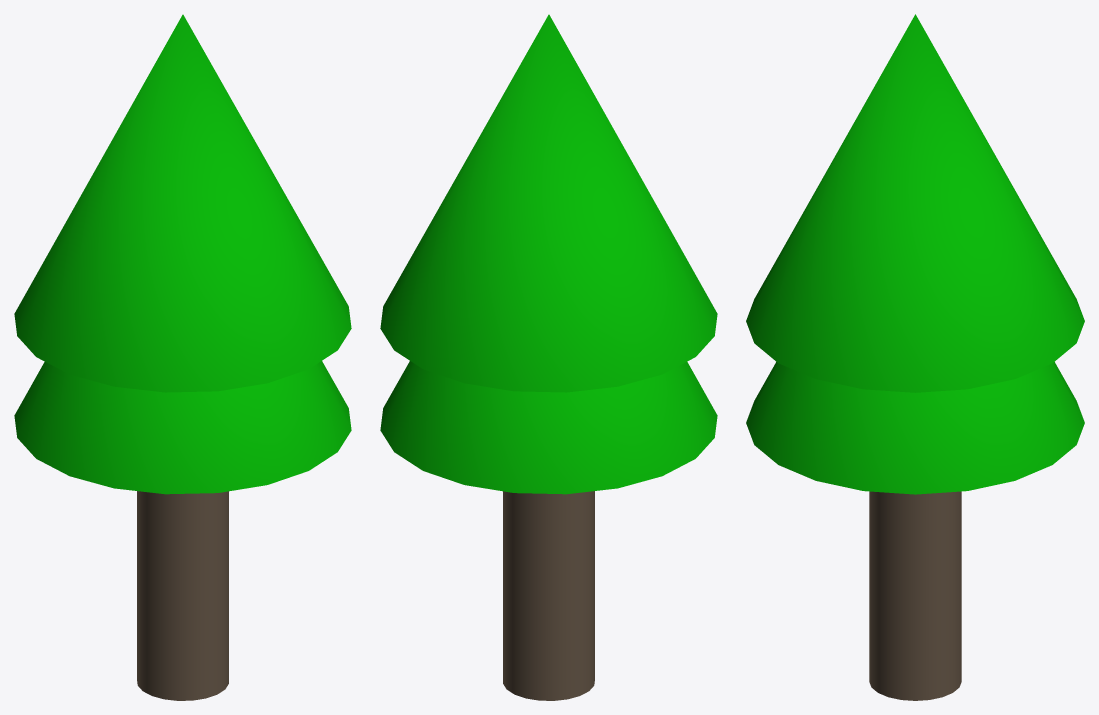
Rendered from tree.fbx.
The picture shows the model from 3 angles, left to right: view 1: azimuth 30°, elevation 25°; view 2: azimuth 150°, elevation 25°; view 3: azimuth 270°, elevation 25°; orthographic projection.
Visible parts, largest first — view 1: pCylinder2; view 2: pCylinder2; view 3: pCylinder2.
Part boxes in pixels (x1,y1,x2,y2): pCylinder2: (14, 14, 351, 700); pCylinder2: (380, 14, 717, 700); pCylinder2: (746, 14, 1084, 700).
Bounding box in the file's own units: 3.03 × 6.57 × 3.03.
